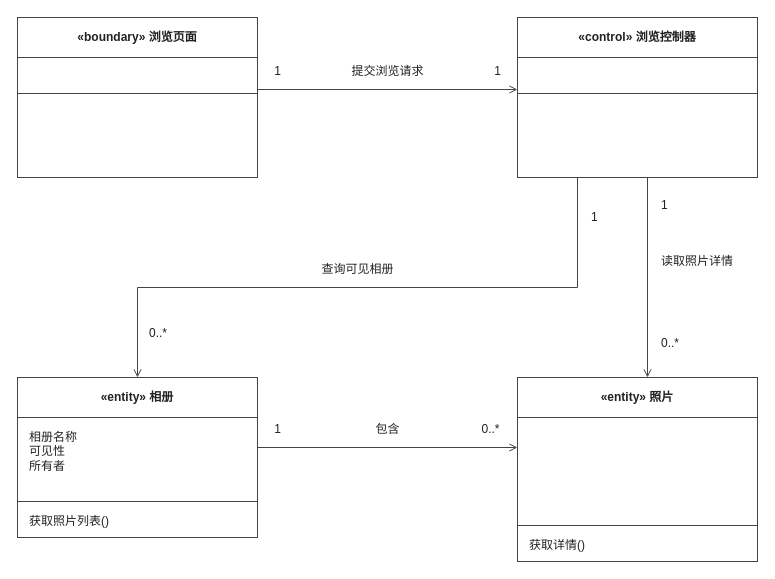
This 775x579 diagram has some shape labels left out. Here are the shapes that lost their labels. From the top down, the box of each, then its label:
(16, 56, 258, 94): 浏览视图
(16, 92, 258, 178): 显示相册列表() 显示缩略图网格() 显示照片大图与信息()
(516, 92, 758, 178): 获取可见相册列表() 获取相册照片列表() 获取照片详情()
(516, 416, 758, 526): 文件路径 缩略图路径 上传者 上传时间
